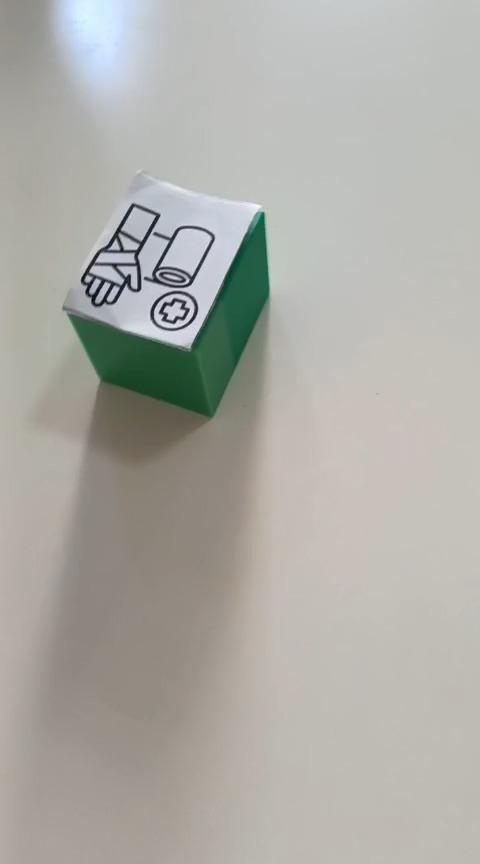Bandages: (61, 167, 270, 418)
